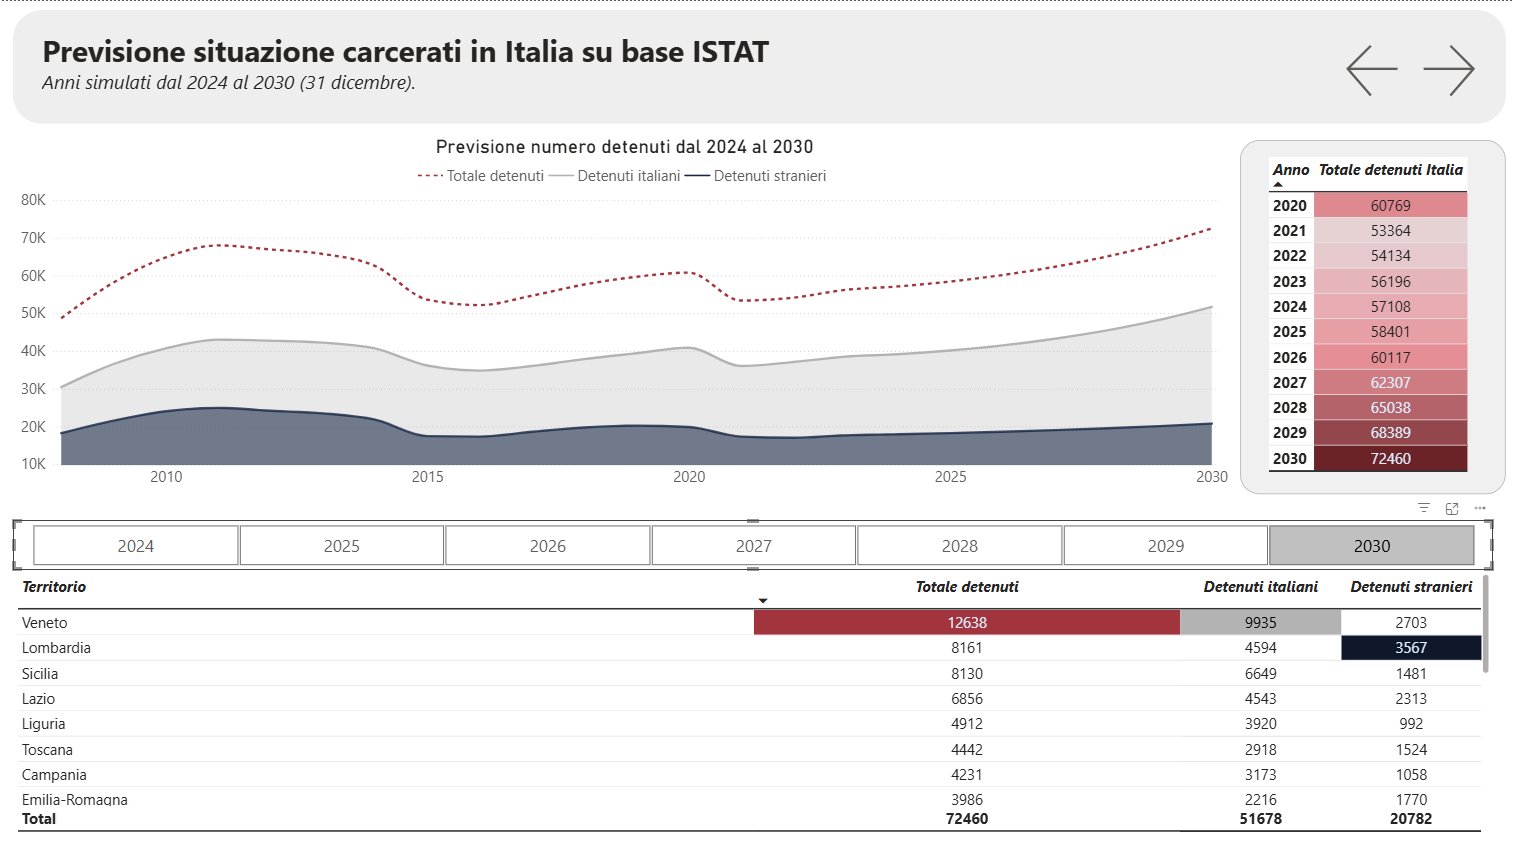

The dashboard page shown, as its layout file describes it:
{"tool":"powerbi","page":{"name":"Previsione","canvas":[1920,1080],"ordinal":6},"visuals":[{"type":"shape","box":[1568,176,336,448],"z":0},{"type":"shape","box":[16,12,1888,144],"z":1000},{"type":"textbox","box":[48,32,1152,96],"z":2000},{"type":"areaChart","title":"Previsione numero detenuti dal 2024 al 2030","fields":{"Category":["df_con_predizioni.anno"],"Y":["Sum(df_con_predizioni.detenuti)","Sum(df_con_predizioni.detenuti_italiani)","Sum(df_con_predizioni.detenuti_stranieri)"]},"box":[16,160,1552,464],"z":3000},{"type":"tableEx","fields":{"Values":["df_con_predizioni.territorio","Sum(df_con_predizioni.detenuti)","Sum(df_con_predizioni.detenuti_italiani)","Sum(df_con_predizioni.detenuti_stranieri)"]},"box":[16,720,1872,336],"z":4000},{"type":"pivotTable","fields":{"Rows":["df_con_predizioni.anno"],"Values":["Sum(df_con_predizioni.detenuti)"]},"box":[1600,192,288,416],"z":5000},{"type":"slicer","fields":{"Values":["df_con_predizioni.anno"]},"box":[16,656,1872,64],"z":6000},{"type":"actionButton","box":[1696,48,96,80],"z":7000},{"type":"actionButton","box":[1792,48,96,80],"z":8000}]}

Visuals, with their boxes in screenshot pixels (x1, y1, x2, y2), scaled from the page's 1920x1080 canvas onto the 1513x852 screenshot:
shape: BBox(1236, 139, 1500, 492)
shape: BBox(13, 9, 1500, 123)
textbox: BBox(38, 25, 946, 101)
"Previsione numero detenuti dal 2024 al 2030" areaChart: BBox(13, 126, 1236, 492)
tableEx - df_con_predizioni.territorio x Sum(df_con_predizioni.detenuti): BBox(13, 568, 1488, 833)
pivotTable - df_con_predizioni.anno x Sum(df_con_predizioni.detenuti): BBox(1261, 151, 1488, 480)
slicer - df_con_predizioni.anno: BBox(13, 518, 1488, 568)
actionButton: BBox(1336, 38, 1412, 101)
actionButton: BBox(1412, 38, 1488, 101)
